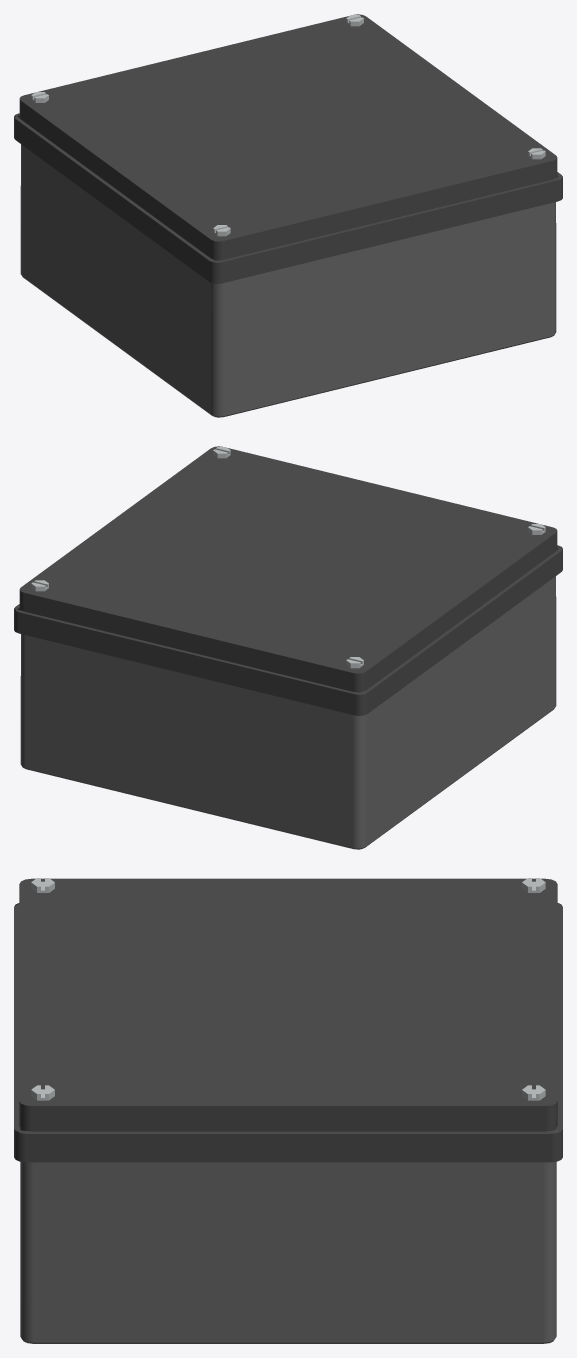
File: JunctionBox.fbx
3 views of the same model, one above another, from view 1: azimuth 30°, elevation 25°; view 2: azimuth 150°, elevation 25°; view 3: azimuth 270°, elevation 25° (orthographic). The views are drawn at different scales.
Parts seen in each view (by area): view 1: Lid, Base, Screw.002; view 2: Lid, Base, Screw.002; view 3: Lid, Base, Screw.002.
Boxes of the visible parts, bbox=[...] form: Lid: bbox=[14, 14, 562, 283]; Base: bbox=[20, 144, 556, 417]; Screw.002: bbox=[31, 15, 545, 236]; Lid: bbox=[14, 446, 562, 715]; Base: bbox=[20, 576, 556, 849]; Screw.002: bbox=[31, 447, 545, 668]; Lid: bbox=[14, 878, 562, 1162]; Base: bbox=[20, 1162, 556, 1343]; Screw.002: bbox=[31, 878, 545, 1100].
Size of the model in its own units: 39.15 by 19.5 by 39.15.
